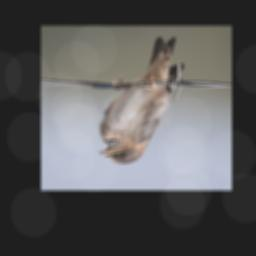Swallow: (97, 36, 186, 166)
